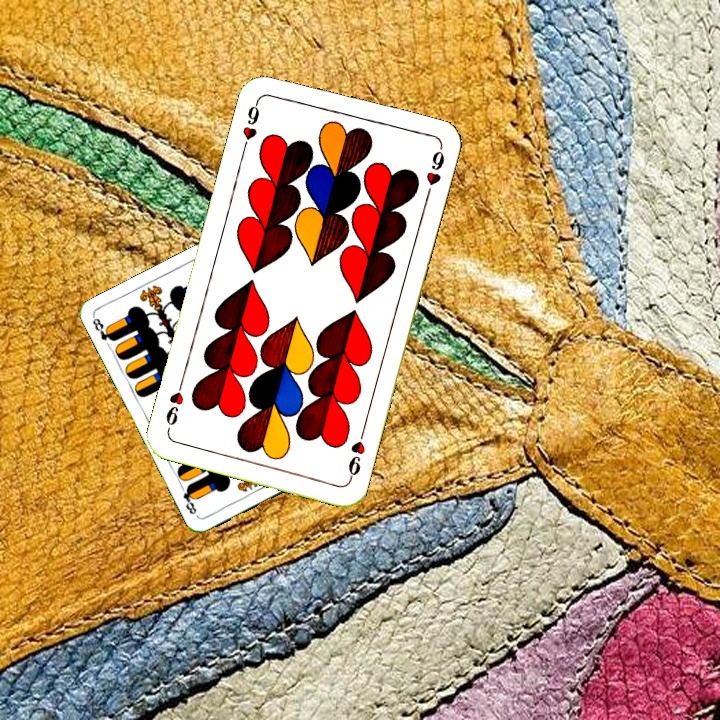E8: (88, 313, 117, 344)
H9: (344, 425, 368, 483), (238, 95, 262, 153)
